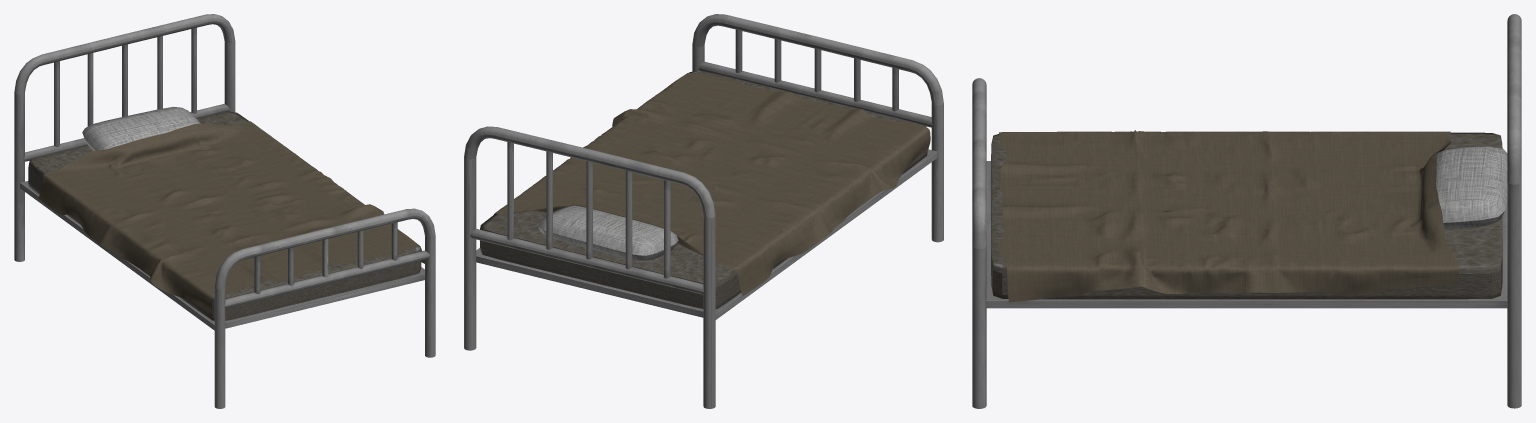
File: asylum_bed.glb
3 renders of one model, left to right at view 1: azimuth 30°, elevation 25°; view 2: azimuth 150°, elevation 25°; view 3: azimuth 270°, elevation 25°, orthographic. The views are drawn at different scales.
Visible parts, largest first — view 1: Plane.001, Cylinder.005; view 2: Plane.001, Cylinder.005; view 3: Plane.001, Cylinder.005.
Part boxes in pixels (left/top/right/bottom): Plane.001: left=38, top=121, right=424, bottom=315; Cylinder.005: left=14, top=14, right=435, bottom=408; Plane.001: left=494, top=73, right=930, bottom=296; Cylinder.005: left=464, top=14, right=943, bottom=408; Plane.001: left=998, top=130, right=1459, bottom=302; Cylinder.005: left=972, top=14, right=1521, bottom=408.
Size of the model in its own units: 12.91 by 10.35 by 19.33.
2 materials, 2 textured.
